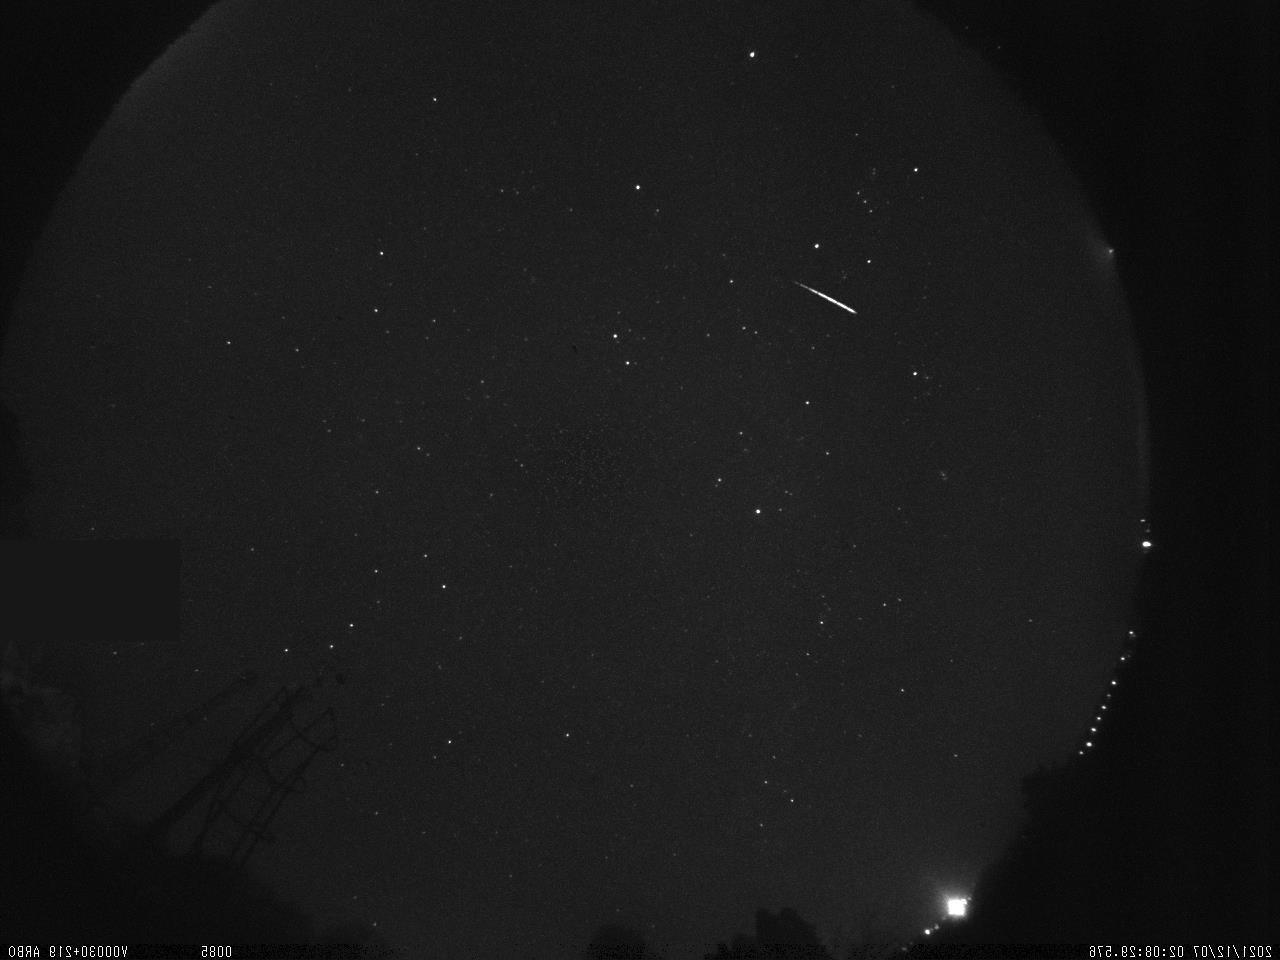meteor: (777, 265, 893, 331)
